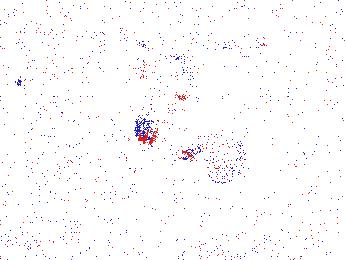flame jellyfish: (135, 48, 197, 144), (180, 137, 247, 184), (1, 174, 38, 222)
